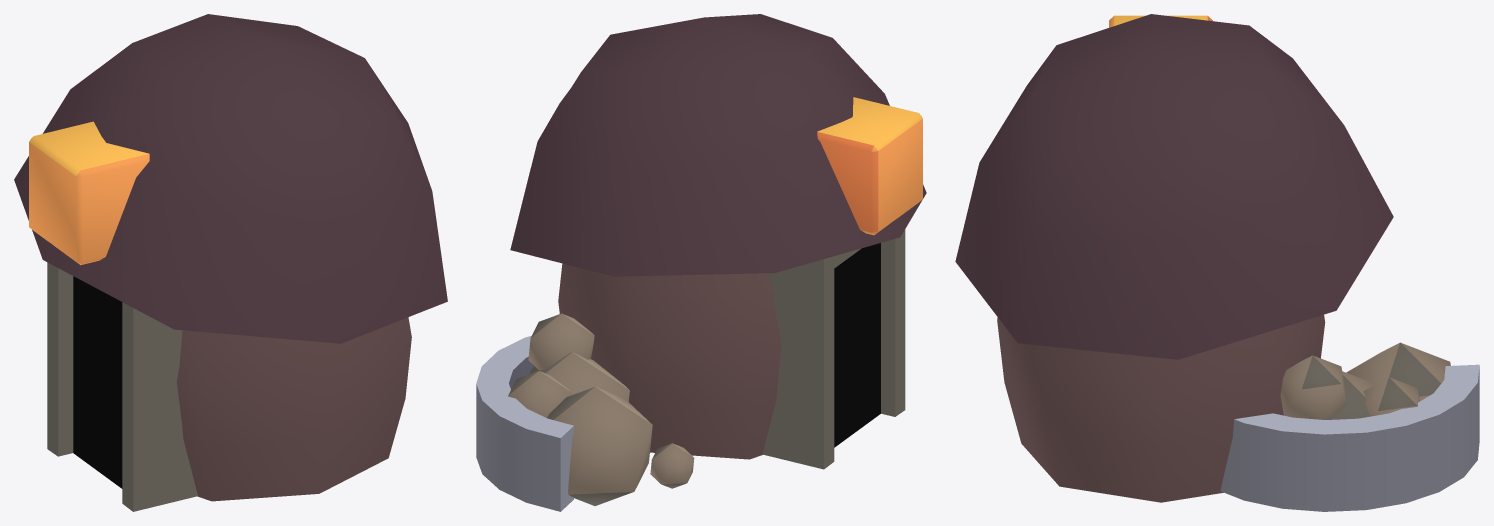
File: House_Miner.glb
The picture shows the model from 3 angles, left to right: view 1: azimuth 30°, elevation 25°; view 2: azimuth 150°, elevation 25°; view 3: azimuth 270°, elevation 25°; orthographic projection. The views are drawn at different scales.
Visible parts, largest first — view 1: Plane.009, Cube.006, Plane.010, Cube.007, Plane.011; view 2: Plane.009, Cube.006, Plane.010, Cube.005, Cube.007, Plane.011, Icosphere, Icosphere.003, Icosphere.001, Icosphere.002, Icosphere.004; view 3: Plane.009, Cube.006, Cube.005, Icosphere.003, Icosphere, Icosphere.002, Icosphere.001.
Boxes of the visible parts, x1=… form: Plane.009: x1=14, y1=14, x2=447, y2=343; Cube.006: x1=176, y1=317, x2=411, y2=501; Plane.010: x1=47, y1=262, x2=197, y2=511; Cube.007: x1=29, y1=121, x2=149, y2=265; Plane.011: x1=73, y1=276, x2=122, y2=488; Plane.009: x1=510, y1=14, x2=926, y2=276; Cube.006: x1=558, y1=263, x2=781, y2=459; Plane.010: x1=762, y1=229, x2=905, y2=469; Cube.005: x1=476, y1=336, x2=573, y2=511; Cube.007: x1=817, y1=97, x2=922, y2=235; Plane.011: x1=834, y1=243, x2=880, y2=447; Icosphere: x1=547, y1=387, x2=652, y2=505; Icosphere.003: x1=528, y1=313, x2=594, y2=370; Icosphere.001: x1=529, y1=352, x2=629, y2=401; Icosphere.002: x1=508, y1=371, x2=571, y2=417; Icosphere.004: x1=650, y1=443, x2=694, y2=488; Plane.009: x1=955, y1=14, x2=1393, y2=359; Cube.006: x1=997, y1=314, x2=1325, y2=502; Cube.005: x1=1220, y1=364, x2=1479, y2=511; Icosphere.003: x1=1280, y1=355, x2=1347, y2=419; Icosphere: x1=1346, y1=342, x2=1450, y2=401; Icosphere.002: x1=1363, y1=377, x2=1419, y2=416; Icosphere.001: x1=1327, y1=371, x2=1374, y2=419.
Bounding box in the file's own units: 2.56 × 2.73 × 3.07.
1 material, 1 textured.
